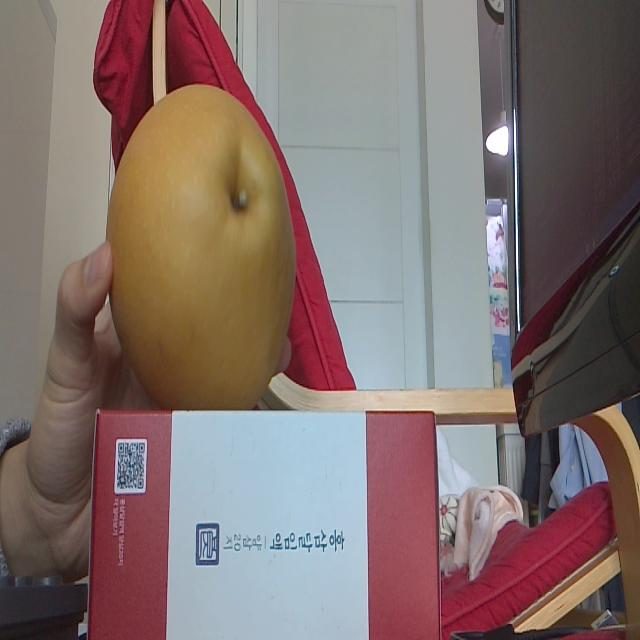pear: (108, 85, 294, 408)
